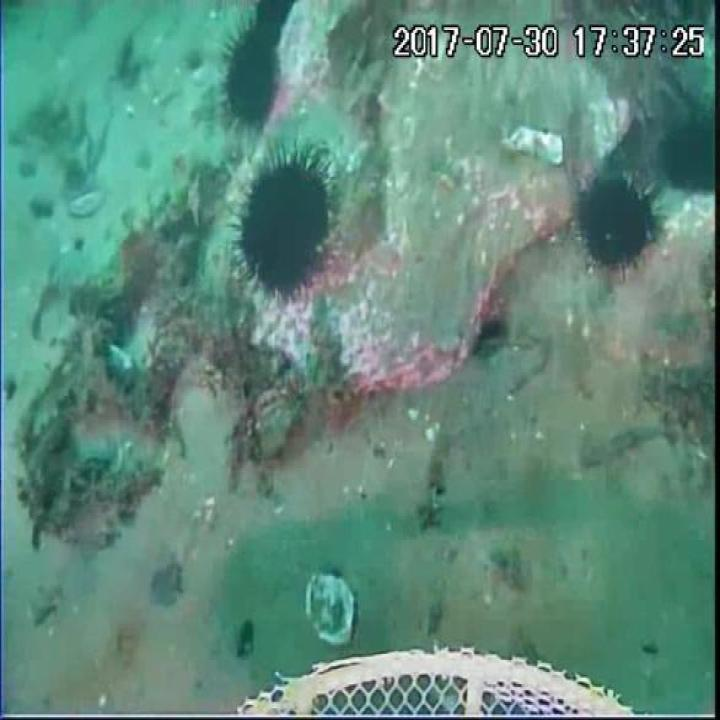echinus: (235, 157, 333, 301), (575, 172, 657, 274), (221, 27, 282, 126), (660, 111, 720, 197), (249, 0, 290, 56)
